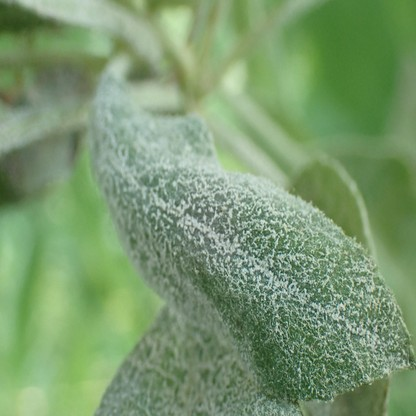powdery_mildew: (89, 66, 416, 399), (93, 303, 305, 416)
